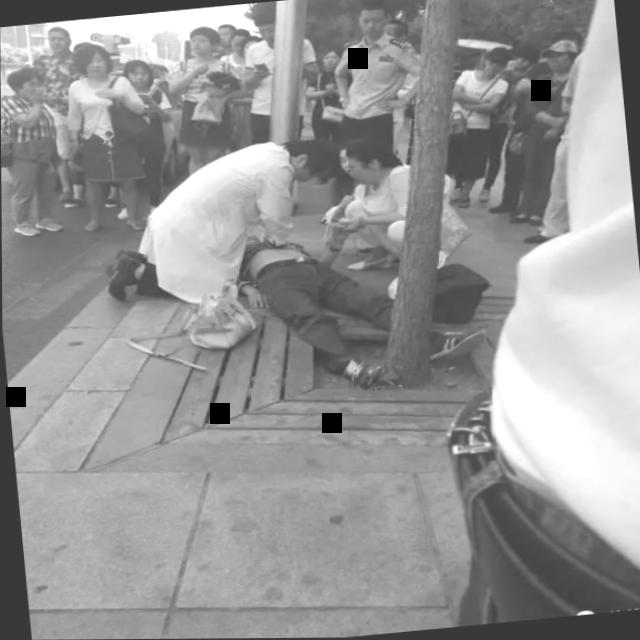Fall-Detected: (218, 205, 481, 407)
